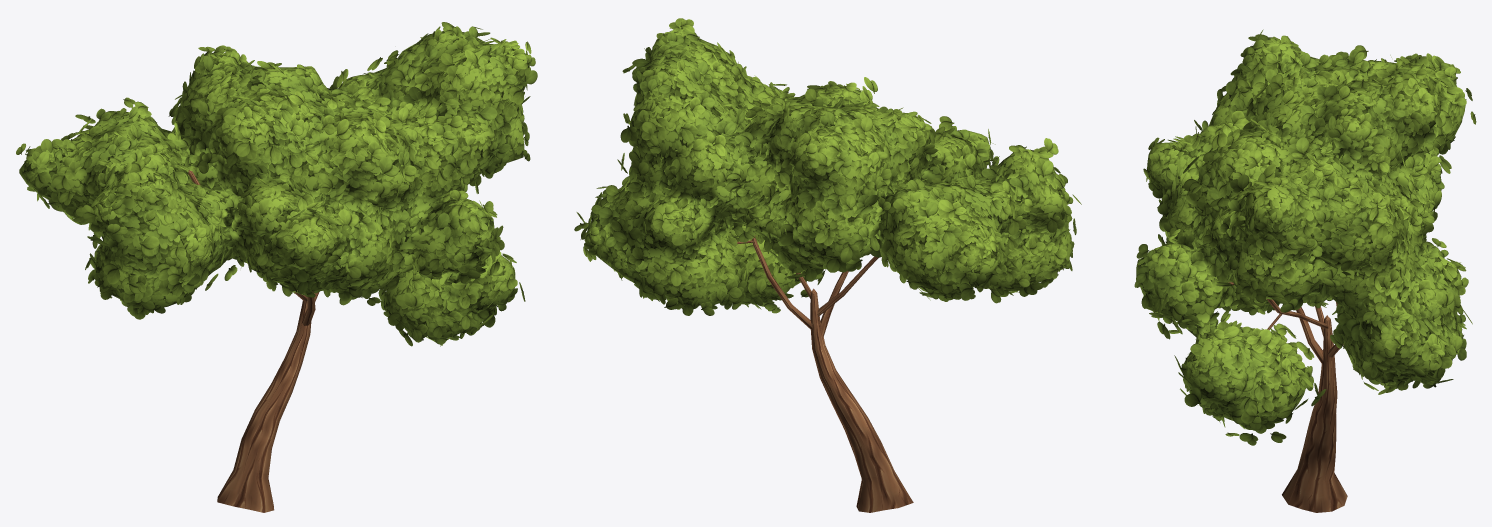
Rendered from acacia_v2.glb.
The picture shows the model from 3 angles, left to right: view 1: azimuth 30°, elevation 25°; view 2: azimuth 150°, elevation 25°; view 3: azimuth 270°, elevation 25°; orthographic projection. The views are drawn at different scales.
Visible parts, largest first — view 1: acacia_v2_leaves_LOD0, acacia_v2_volume_LOD0, acacia_v2_trunk_LOD0; view 2: acacia_v2_leaves_LOD0, acacia_v2_volume_LOD0, acacia_v2_trunk_LOD0; view 3: acacia_v2_leaves_LOD0, acacia_v2_volume_LOD0, acacia_v2_trunk_LOD0.
Boxes of the visible parts, x1=… form: acacia_v2_leaves_LOD0: x1=16, y1=22, x2=537, y2=346; acacia_v2_volume_LOD0: x1=19, y1=31, x2=529, y2=337; acacia_v2_trunk_LOD0: x1=188, y1=170, x2=319, y2=512; acacia_v2_leaves_LOD0: x1=574, y1=18, x2=1081, y2=315; acacia_v2_volume_LOD0: x1=584, y1=29, x2=1072, y2=305; acacia_v2_trunk_LOD0: x1=737, y1=235, x2=913, y2=512; acacia_v2_leaves_LOD0: x1=1134, y1=29, x2=1476, y2=445; acacia_v2_volume_LOD0: x1=1136, y1=39, x2=1464, y2=421; acacia_v2_trunk_LOD0: x1=1228, y1=282, x2=1347, y2=512.
Size of what is drawn, in the model's own units: 9.27 by 8.2 by 5.96.
3 materials, 3 textured.
